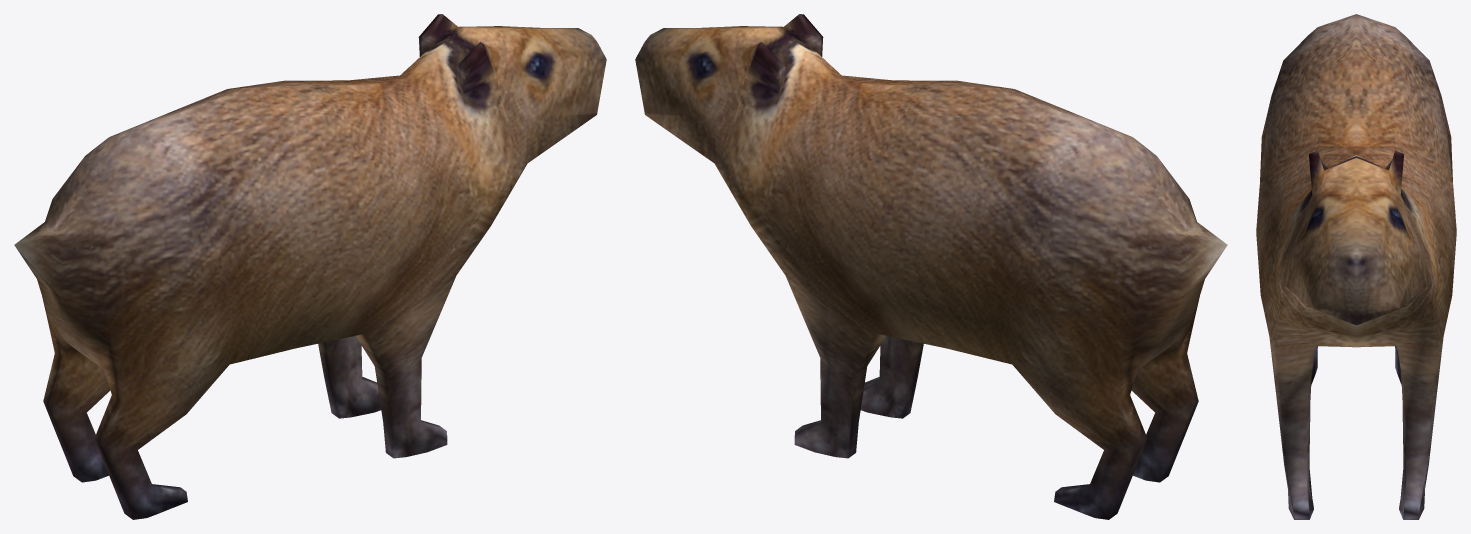
Rendered from carpincho.glb.
3 views of the same model, side by side, from view 1: azimuth 30°, elevation 25°; view 2: azimuth 150°, elevation 25°; view 3: azimuth 270°, elevation 25° (orthographic). The views are drawn at different scales.
Visible parts, largest first — view 1: Plane; view 2: Plane; view 3: Plane.
Boxes of the visible parts, x1,y1,x2,y2 form: Plane: [14, 14, 606, 519]; Plane: [635, 14, 1227, 519]; Plane: [1256, 14, 1456, 519].
Bounding box in the file's own units: 0.8405 × 0.5244 × 0.2434.
Materials: 1 (1 with a texture image).
